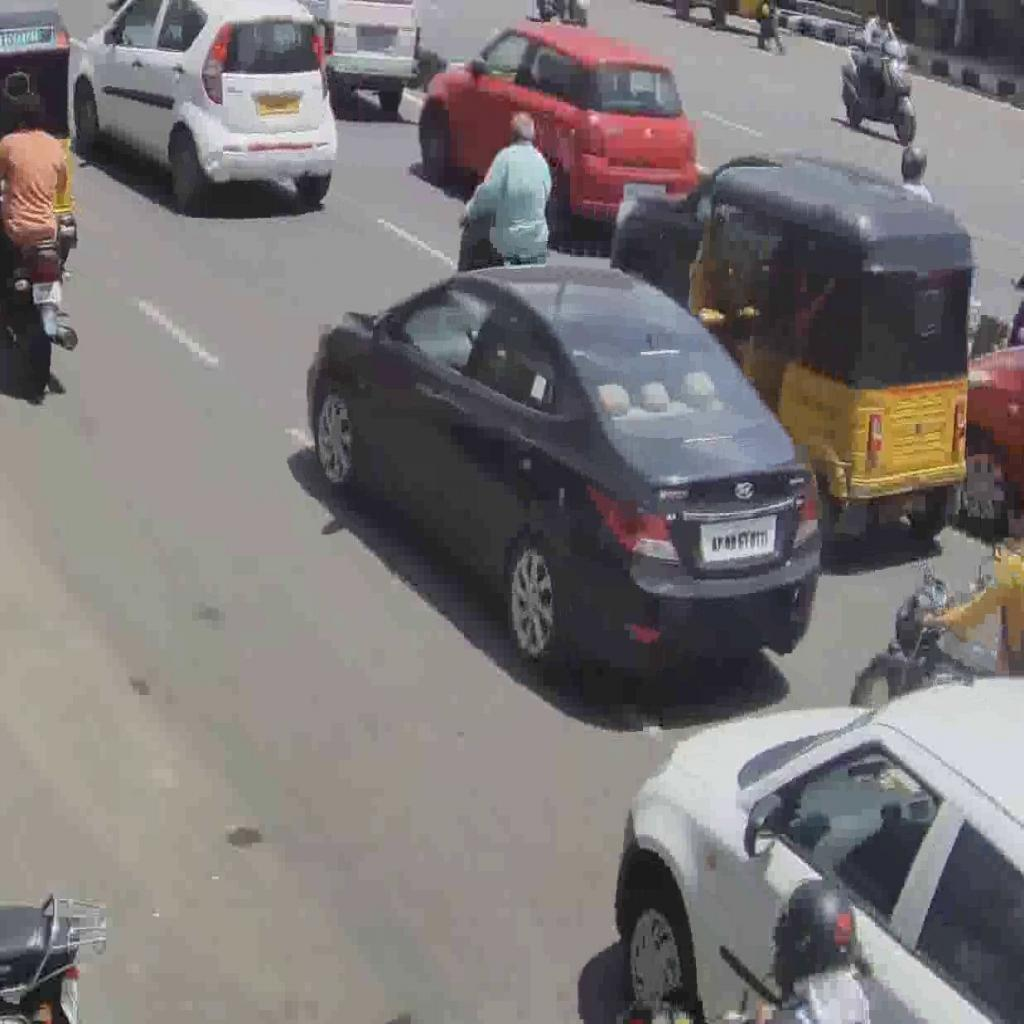bike: (0, 236, 78, 392)
lisc: (32, 280, 60, 304)
no_helmet: (8, 88, 44, 133)
noise: (840, 0, 918, 146)
rider: (0, 88, 69, 270)
